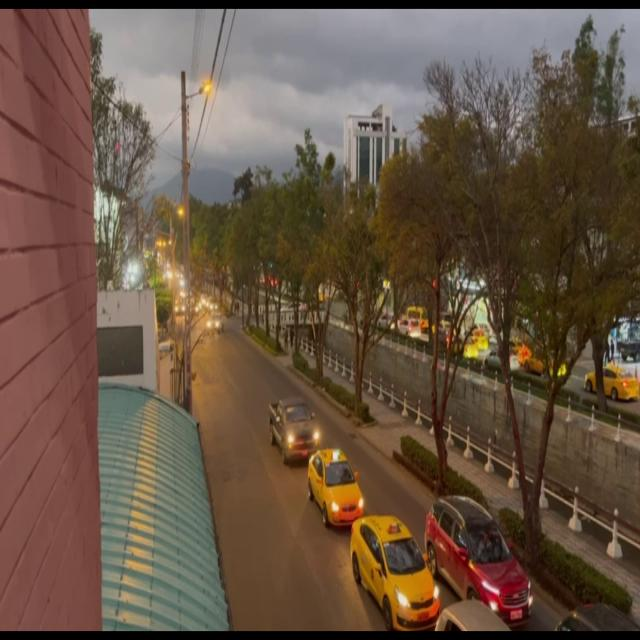CMT: (269, 401, 318, 461)
SED: (353, 520, 435, 630), (312, 453, 364, 526)
SUV: (431, 502, 532, 625)
